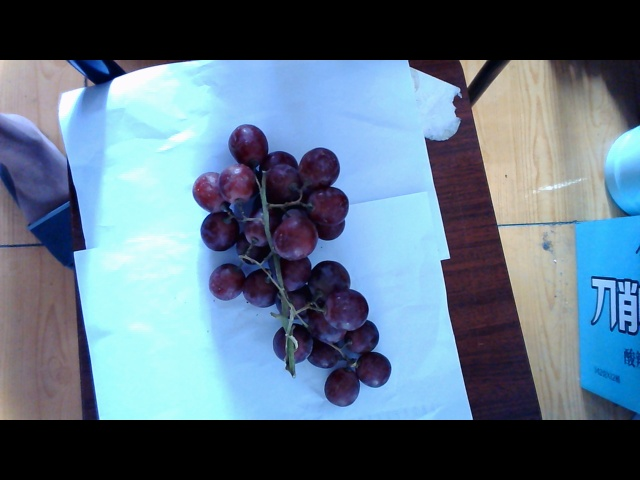grape: (196, 130, 392, 412)
